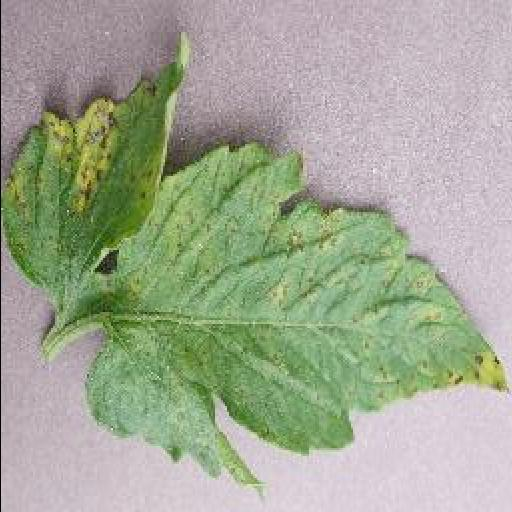disease_tomato: (0, 28, 510, 504)
